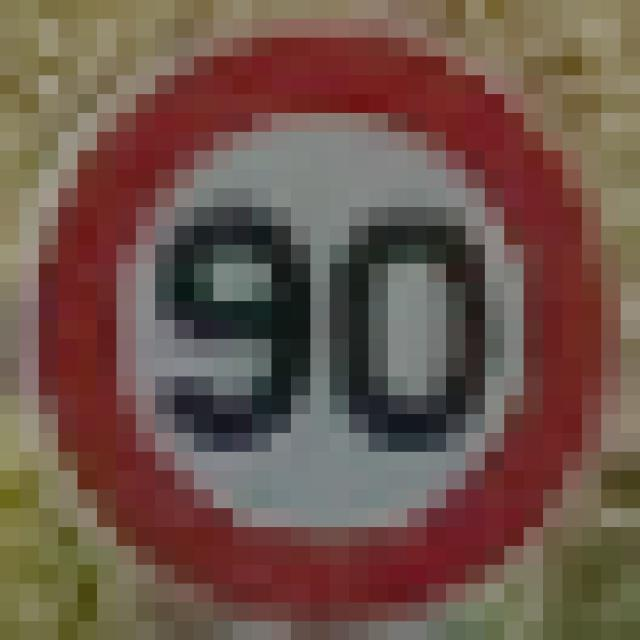speed_90: (0, 0, 621, 621)
